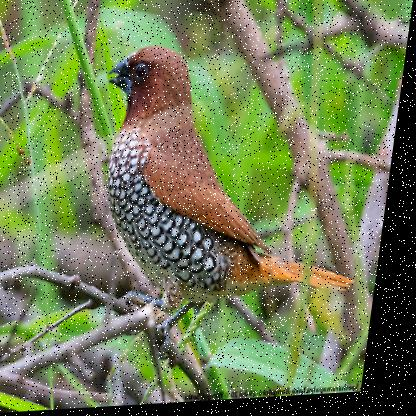Burung: (80, 36, 391, 369)
